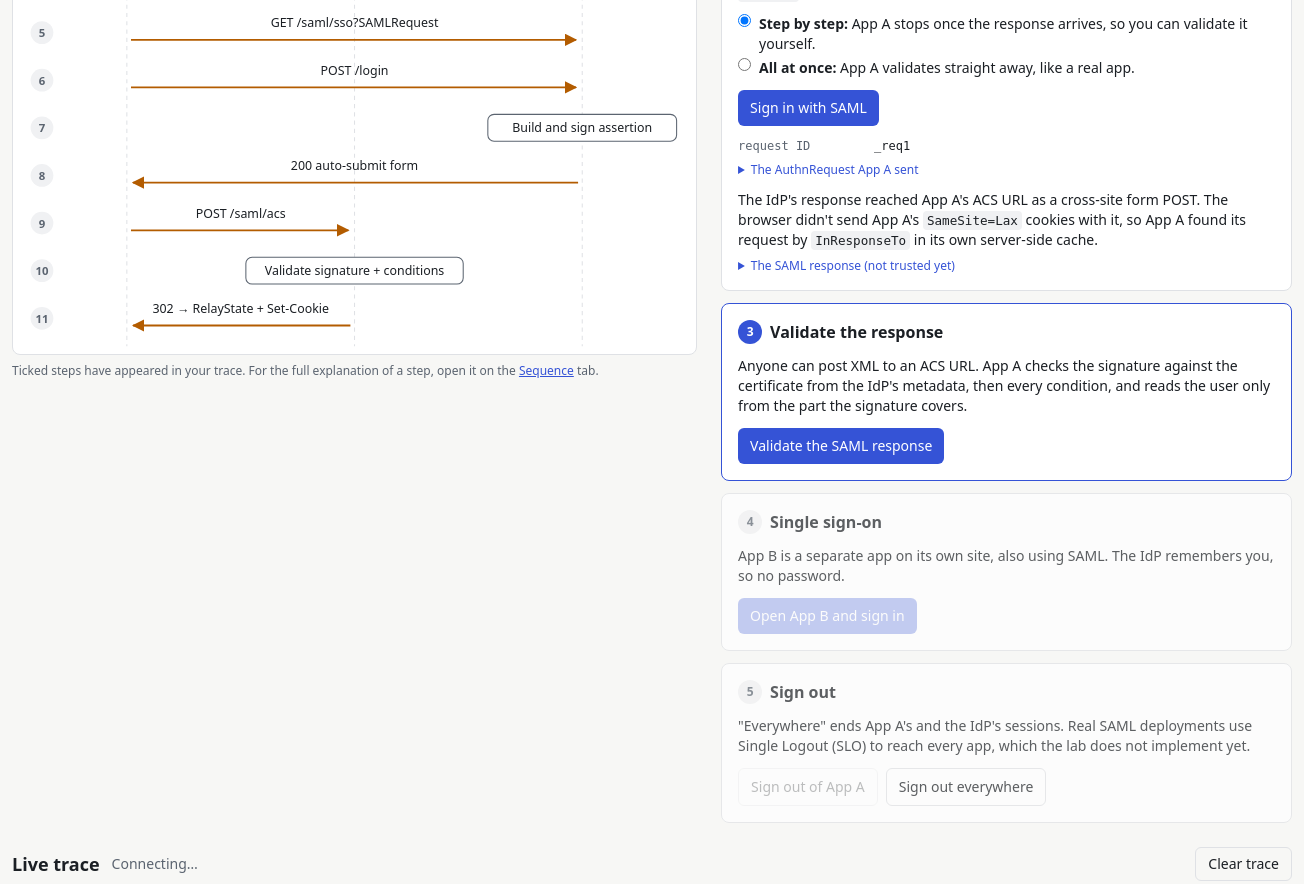
Scenario: SAML playground › shows the pending response and validates it into a session
(page scrolled)
Check: the text "found its request by" is shown, box [738,210,1246,249]
Click the button "Validate the SAML response" at (841, 446), box [738,428,944,464]
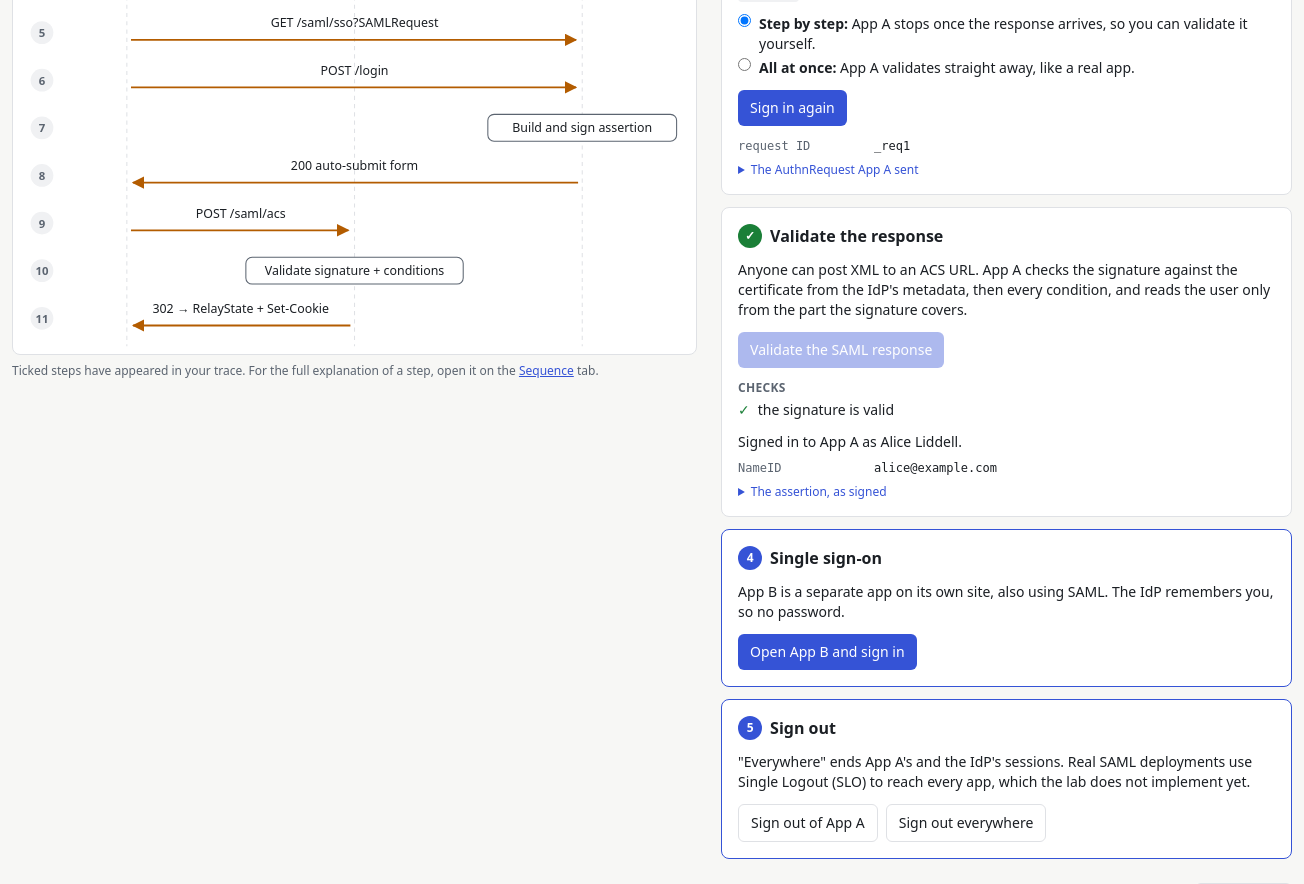
Check: the text "Signed in to App A as Alice Liddell." is shown, box [738,432,962,451]
Check: the text "the signature is valid" is shown, box [758,400,894,420]
Check: the button "Validate the SAML response" is disabled, box [738,332,944,368]
